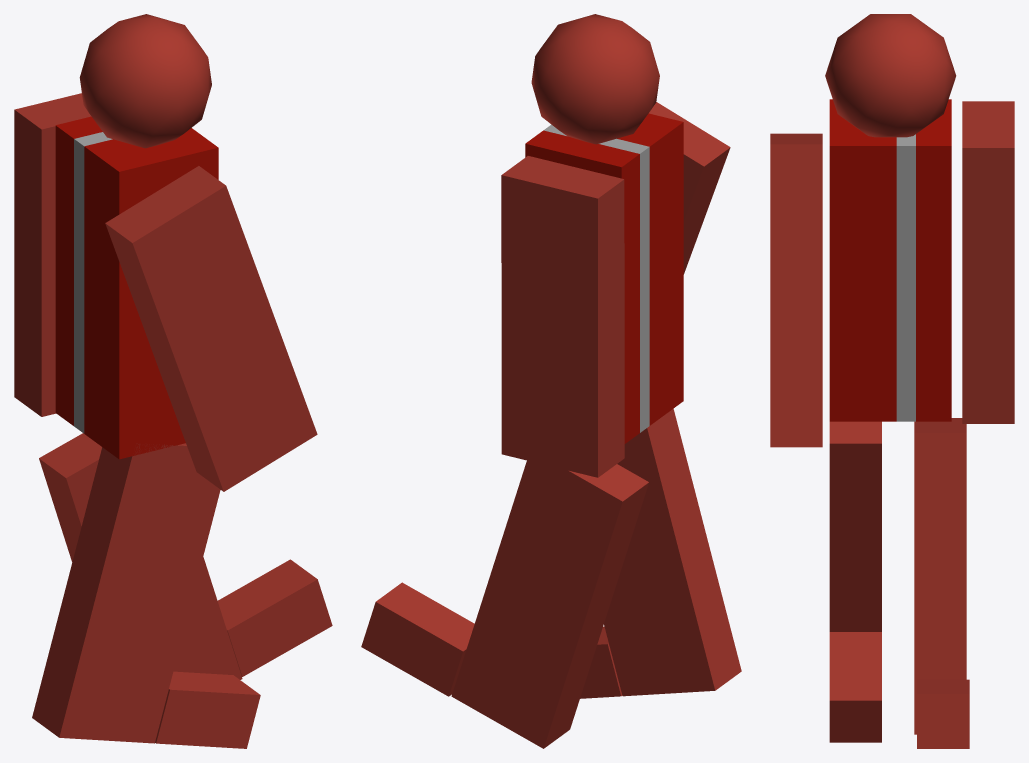
The model's file is player_000049.obj.
3 views of the same model, side by side, from view 1: azimuth 30°, elevation 25°; view 2: azimuth 150°, elevation 25°; view 3: azimuth 270°, elevation 25° (orthographic). The views are drawn at different scales.
Visible parts, largest first — view 1: Cube.013, Cube.010, Cube.007, Icosphere.001, Cube.012, Cube.008, Cube.009, Cube.011; view 2: Cube.012, Cube.008, Cube.010, Cube.007, Icosphere.001, Cube.009, Cube.013, Cube.011; view 3: Cube.007, Cube.012, Cube.013, Cube.008, Icosphere.001, Cube.010, Cube.011, Cube.009.
Boxes of the visible parts, bbox=[...] form: Cube.013: bbox=[105, 166, 317, 491]; Cube.010: bbox=[32, 443, 220, 743]; Cube.007: bbox=[55, 116, 218, 459]; Icosphere.001: bbox=[79, 14, 211, 148]; Cube.012: bbox=[14, 93, 91, 416]; Cube.008: bbox=[39, 433, 242, 679]; Cube.009: bbox=[217, 559, 332, 676]; Cube.011: bbox=[155, 671, 260, 748]; Cube.012: bbox=[501, 156, 624, 477]; Cube.008: bbox=[451, 460, 648, 748]; Cube.010: bbox=[604, 409, 741, 696]; Cube.007: bbox=[525, 113, 683, 443]; Icosphere.001: bbox=[531, 14, 659, 144]; Cube.009: bbox=[361, 582, 474, 696]; Cube.013: bbox=[649, 102, 730, 274]; Cube.011: bbox=[580, 626, 622, 698]; Cube.007: bbox=[829, 99, 951, 421]; Cube.012: bbox=[962, 101, 1014, 423]; Cube.013: bbox=[770, 133, 822, 447]; Cube.008: bbox=[914, 418, 966, 734]; Icosphere.001: bbox=[825, 14, 956, 137]; Cube.010: bbox=[829, 421, 881, 631]; Cube.011: bbox=[829, 632, 881, 742]; Cube.009: bbox=[917, 679, 969, 748].
Size of the model in its own units: 1.32 by 2.87 by 0.9137.
